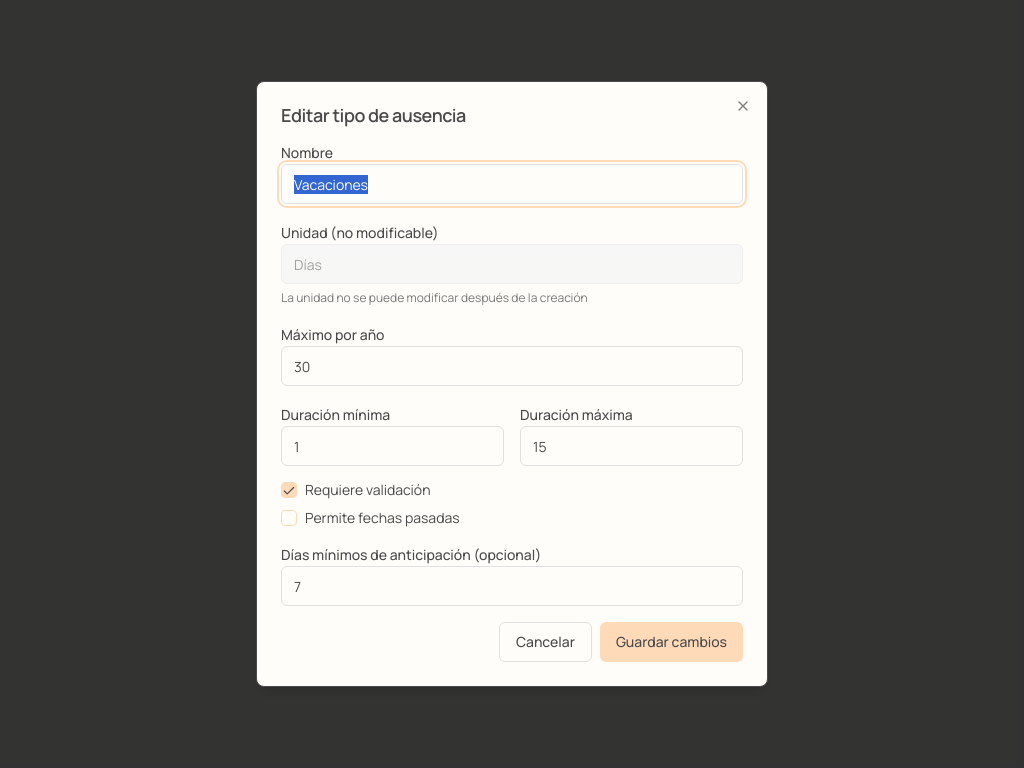
Test: AbsenceTypeFormDialog: modo editar › muestra error genérico ante un fallo al actualizar
The width and height of the screenshot is (1024, 768).
Click the button "Guardar cambios": (671, 642) [600,622,743,662]
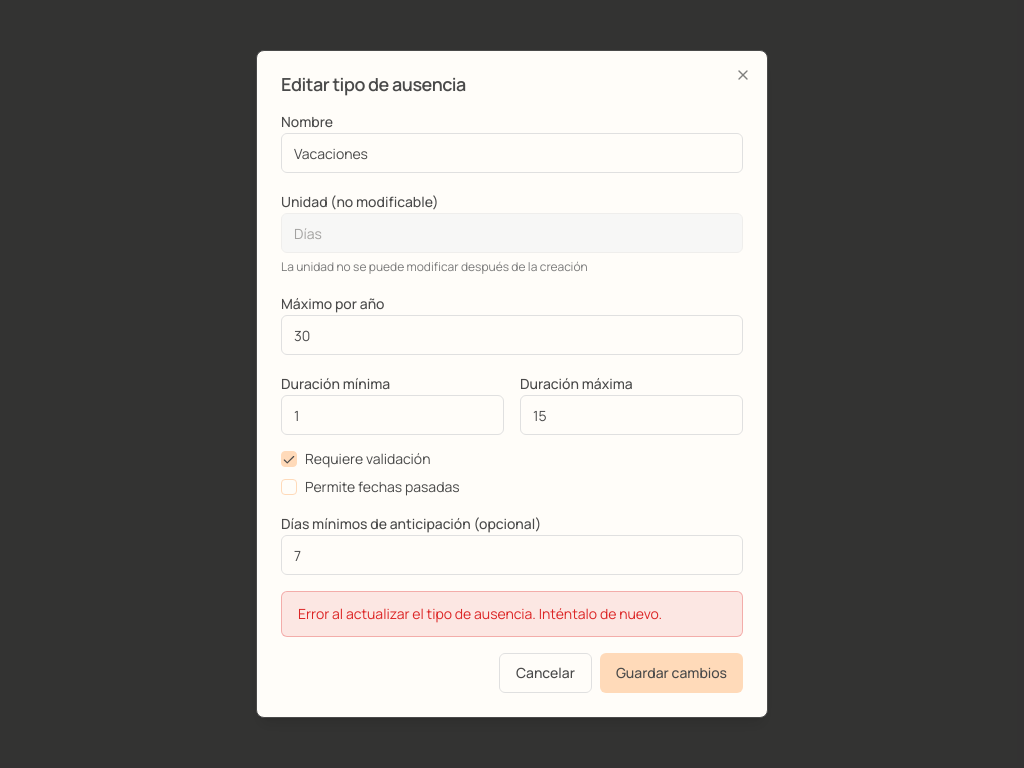
Check: the text "Error al actualizar el tipo de ausencia. Inténtalo de nuevo." is shown, box [281,591,743,637]
